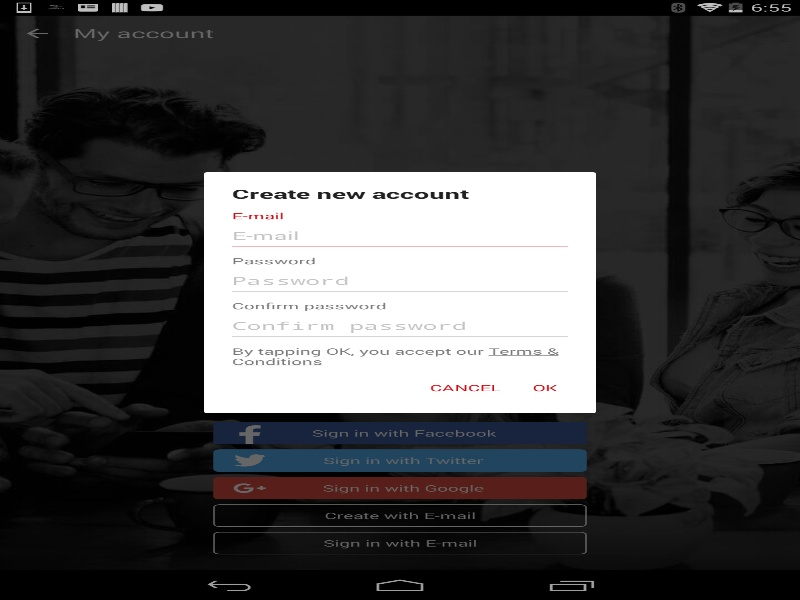Input: (231, 224, 568, 247), (231, 269, 568, 292), (231, 314, 568, 337)
